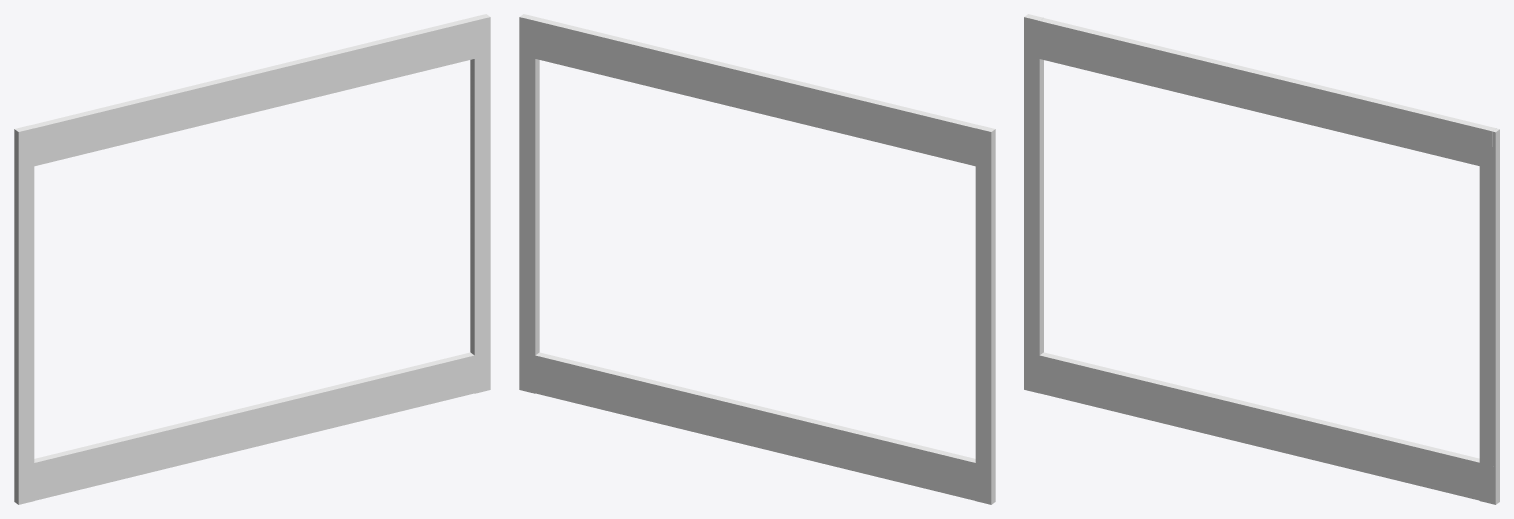
File: Gage.obj
3 views of the same model, side by side, from view 1: azimuth 30°, elevation 25°; view 2: azimuth 150°, elevation 25°; view 3: azimuth 330°, elevation 25° (orthographic).
Parts seen in each view (by area): view 1: 立方体; view 2: 立方体; view 3: 立方体.
Part boxes in pixels (box(x1,y1,x2,y2)): 立方体: box(14, 14, 490, 504); 立方体: box(519, 14, 995, 504); 立方体: box(1024, 14, 1499, 504).
Bounding box in the file's own units: 3.05 × 2.3 × 0.0471.
Materials: 1 (1 with a texture image).
